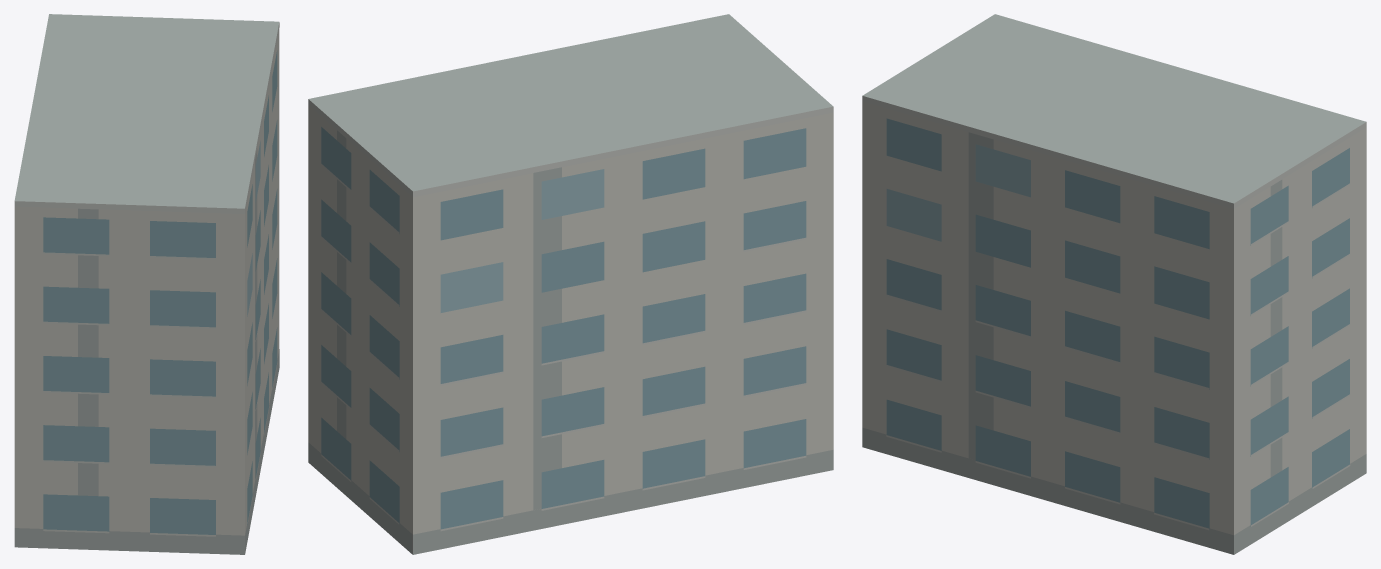
File: residential-dc67b073-0adc-4848-9f7e-685b9339b511.glb
3 views of the same model, side by side, from view 1: azimuth 30°, elevation 25°; view 2: azimuth 150°, elevation 25°; view 3: azimuth 270°, elevation 25° (orthographic). The views are drawn at different scales.
Visible parts, largest first — view 1: residential-dc67b073-0adc-4848-9f7e-685b9339b511.tmp; view 2: residential-dc67b073-0adc-4848-9f7e-685b9339b511.tmp; view 3: residential-dc67b073-0adc-4848-9f7e-685b9339b511.tmp.
Part boxes in pixels (x1,y1,x2,y2): residential-dc67b073-0adc-4848-9f7e-685b9339b511.tmp: [14, 14, 279, 554]; residential-dc67b073-0adc-4848-9f7e-685b9339b511.tmp: [308, 14, 833, 554]; residential-dc67b073-0adc-4848-9f7e-685b9339b511.tmp: [862, 14, 1366, 554].
Bounding box in the file's own units: 17.65 × 15.25 × 19.85.
